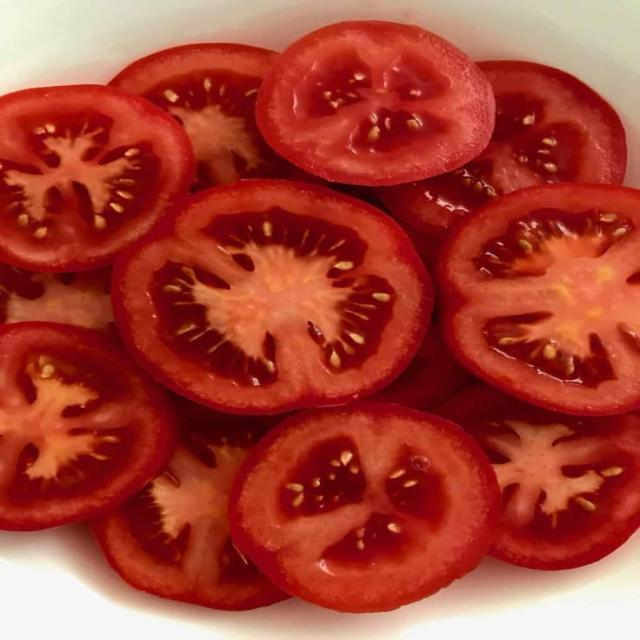sliced tomatoe: (114, 180, 432, 413), (230, 403, 499, 611), (440, 184, 639, 415), (377, 61, 626, 239), (93, 401, 287, 610), (257, 21, 494, 185), (436, 385, 639, 569), (0, 85, 193, 272), (0, 322, 173, 529), (111, 44, 288, 189), (372, 324, 469, 409), (0, 263, 114, 330), (400, 223, 439, 266)
